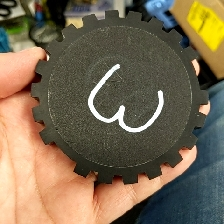gear: (29, 8, 210, 186)
missing: (38, 126, 92, 179), (179, 44, 211, 107)
